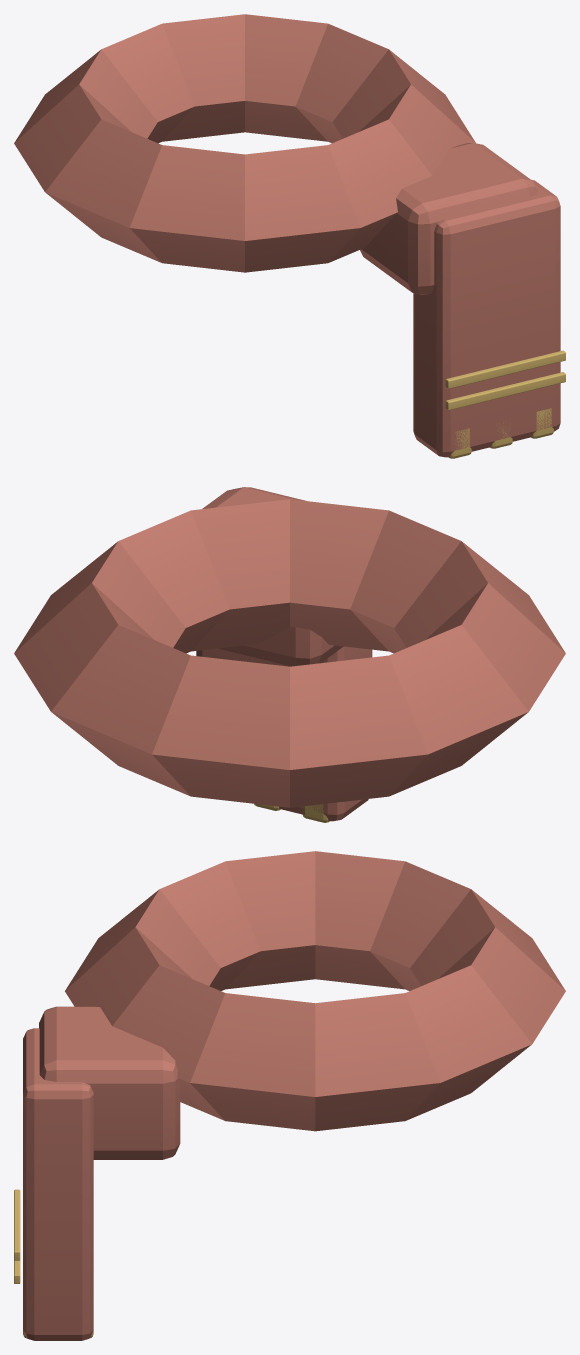
Rendered from scarf.glb.
3 renders of one model, top to bottom at view 1: azimuth 30°, elevation 25°; view 2: azimuth 150°, elevation 25°; view 3: azimuth 270°, elevation 25°, orthographic. The views are drawn at different scales.
Visible parts, largest first — view 1: neck_wrap, scarf_tail, fold, woven_stripe, woven_stripe.001; view 2: neck_wrap, fold, scarf_tail; view 3: neck_wrap, scarf_tail, fold.
Part boxes in pixels (x1,y1,x2,y2): neck_wrap: [14, 14, 475, 272]; scarf_tail: [413, 180, 560, 457]; fold: [360, 143, 537, 294]; woven_stripe: [445, 372, 565, 410]; woven_stripe.001: [445, 350, 565, 388]; neck_wrap: [14, 499, 565, 807]; fold: [206, 487, 343, 666]; scarf_tail: [196, 490, 372, 821]; neck_wrap: [65, 851, 565, 1131]; scarf_tail: [23, 1028, 93, 1340]; fold: [39, 1006, 180, 1159].
Size of the model in its own units: 0.39 by 0.275 by 0.4295.
